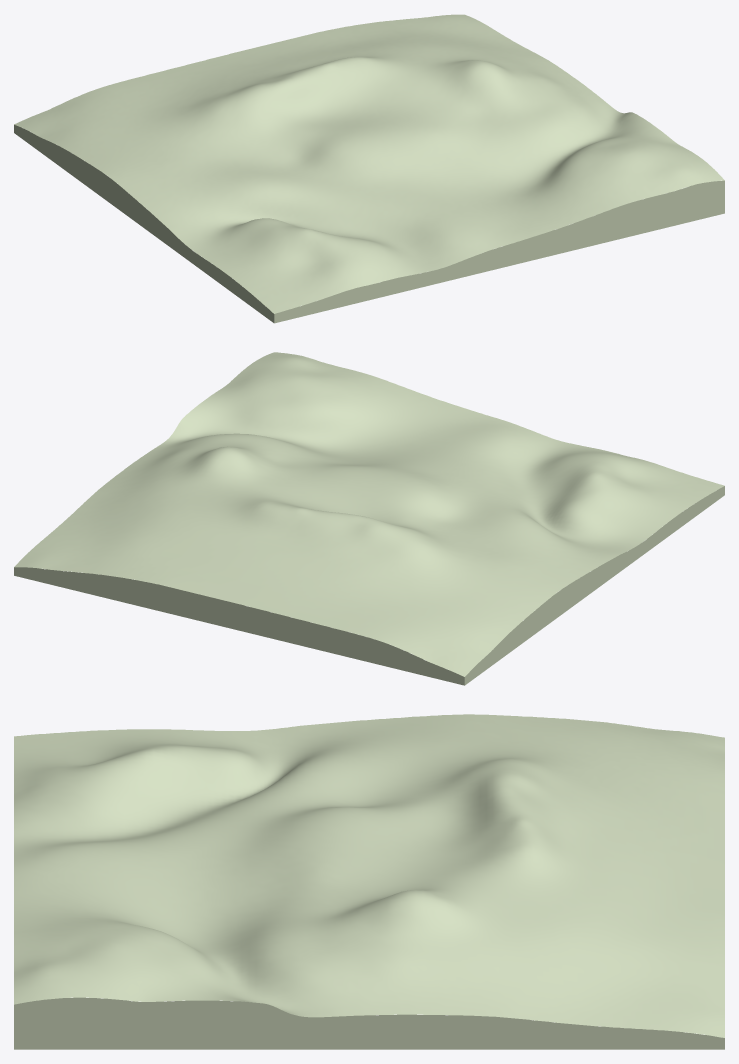
File: terrain.glb
3 views of the same model, one above another, from view 1: azimuth 30°, elevation 25°; view 2: azimuth 150°, elevation 25°; view 3: azimuth 270°, elevation 25° (orthographic). The views are drawn at different scales.
Parts seen in each view (by area): view 1: Terrain - single closed solid; view 2: Terrain - single closed solid; view 3: Terrain - single closed solid.
Part boxes in pixels (x1,y1,x2,y2): Terrain - single closed solid: (14, 14, 724, 323); Terrain - single closed solid: (14, 352, 724, 685); Terrain - single closed solid: (14, 714, 724, 1049).
Bounding box in the file's own units: 100 × 13.92 × 100.
